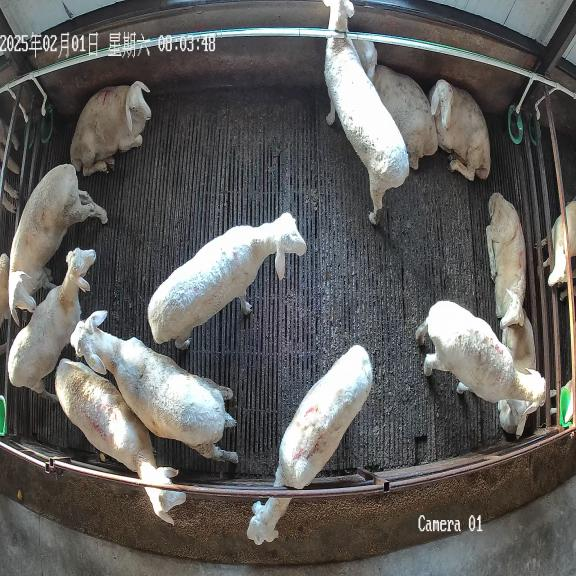lying: (353, 40, 437, 170), (70, 81, 151, 176), (429, 80, 490, 180), (498, 316, 542, 438), (486, 194, 526, 328)
stand: (71, 310, 238, 463), (247, 345, 373, 545), (55, 359, 186, 524), (148, 213, 306, 348), (8, 164, 107, 322), (416, 301, 545, 414), (7, 248, 96, 399)
